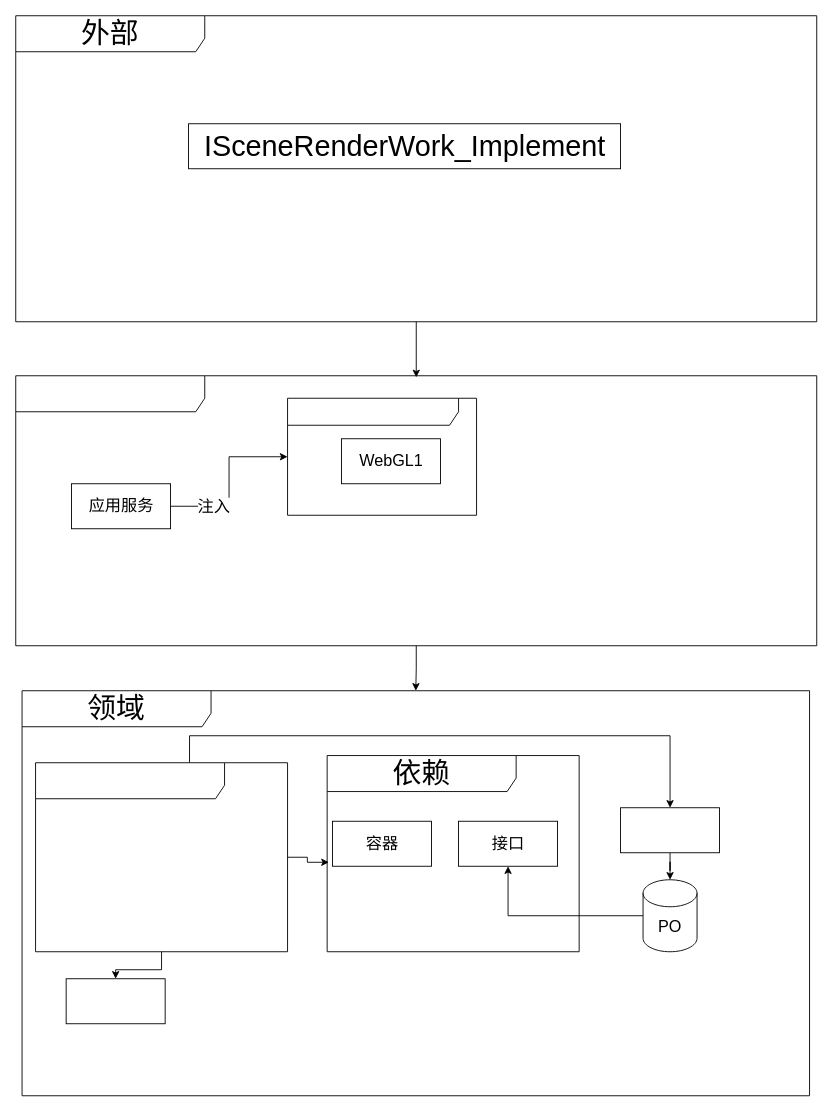
The diagram is 833 pixels wide and 1112 high, and some of its shapes have lost their labels. Here are the shapes that lost their labels. From the top down, the box of each, then its label:
(287, 397, 477, 515): 实现的依赖
(15, 375, 817, 646): 应用
(620, 807, 720, 853): 仓库
(35, 762, 288, 952): 领域模型
(65, 978, 165, 1024): Library
